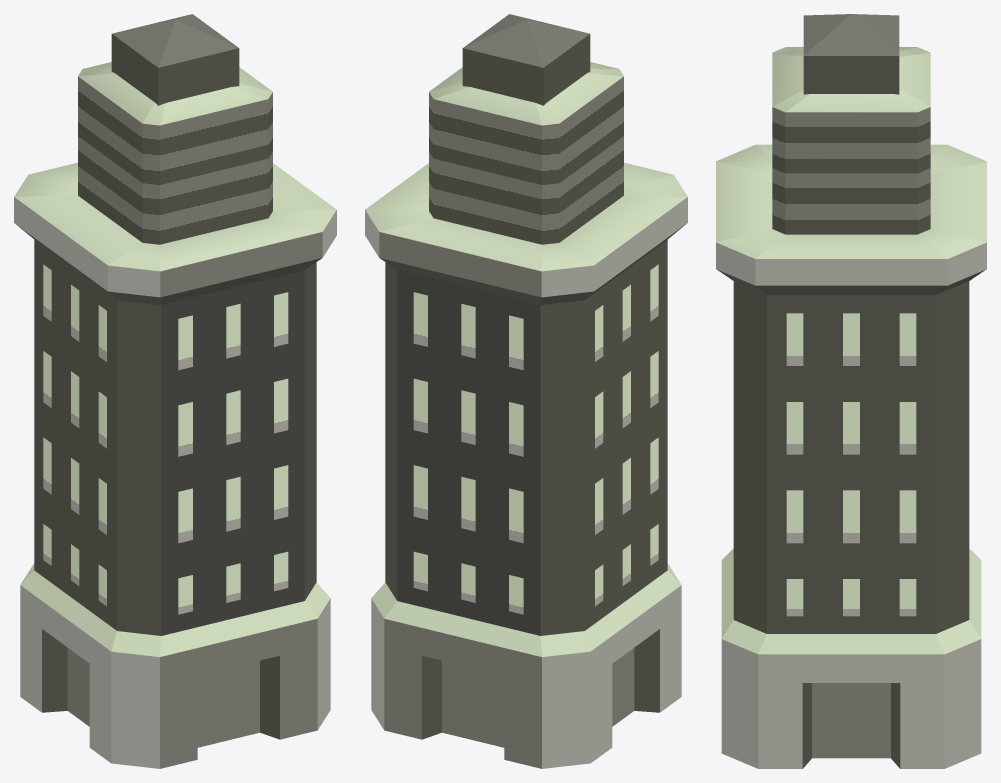
File: workspace.glb
3 views of the same model, side by side, from view 1: azimuth 30°, elevation 25°; view 2: azimuth 150°, elevation 25°; view 3: azimuth 270°, elevation 25° (orthographic). The views are drawn at different scales.
Visible parts, largest first — view 1: Plane.077, Plane.078, Plane.079; view 2: Plane.077, Plane.080, Plane.079; view 3: Plane.077, Plane.081.
Part boxes in pixels (box(x1,y1,x2,y2)): Plane.077: box(14, 14, 336, 768); Plane.078: box(178, 292, 288, 614); Plane.079: box(43, 264, 106, 606); Plane.077: box(365, 14, 687, 768); Plane.080: box(413, 292, 523, 614); Plane.079: box(595, 264, 658, 606); Plane.077: box(716, 14, 986, 768); Plane.081: box(786, 313, 916, 616).
Size of the model in its own units: 0.194 by 0.5536 by 0.194.
Materials: 1 (1 with a texture image).
